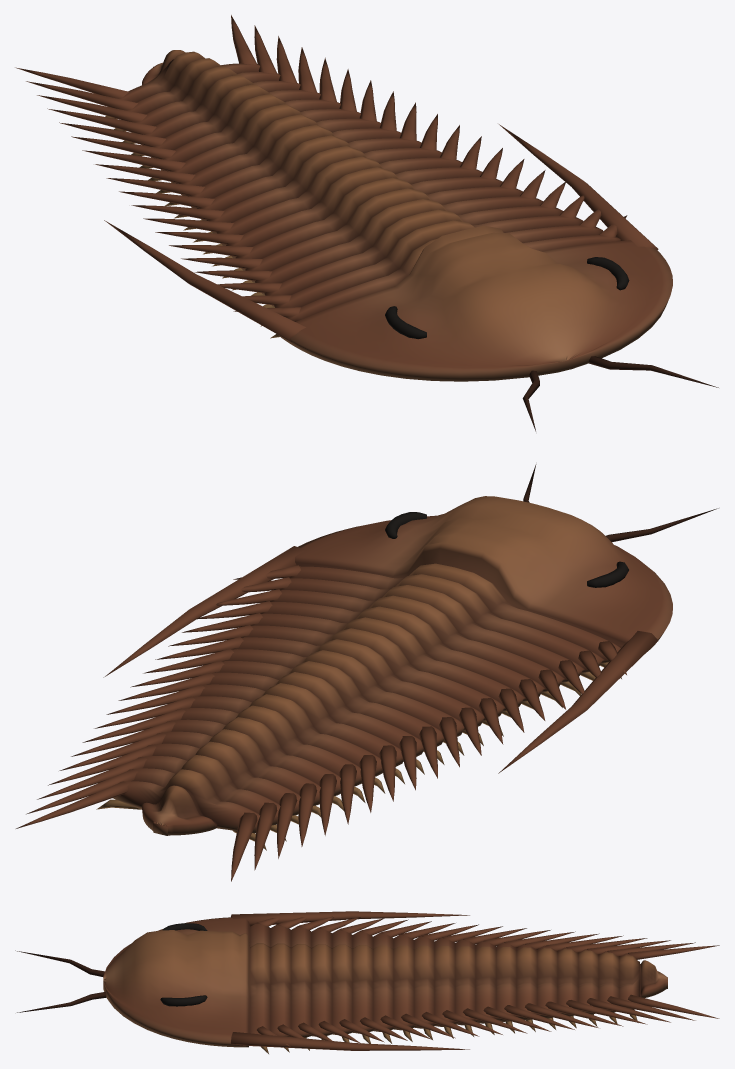
File: Paradoxides.fbx
3 renders of one model, top to bottom at view 1: azimuth 30°, elevation 25°; view 2: azimuth 150°, elevation 25°; view 3: azimuth 270°, elevation 25°, orthographic. The views are drawn at different scales.
Visible parts, largest first — view 1: Paradoxides; view 2: Paradoxides; view 3: Paradoxides.
Part boxes in pixels (<box>): Paradoxides: <box>15,15,718,431</box>; Paradoxides: <box>16,464,718,881</box>; Paradoxides: <box>15,911,719,1053</box>.
Size of the model in its own units: 1.09 by 0.2006 by 2.38.
